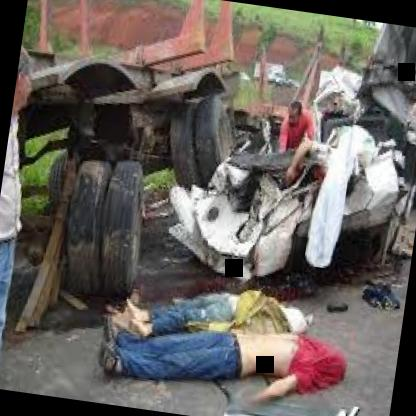accident: (0, 2, 416, 342)
